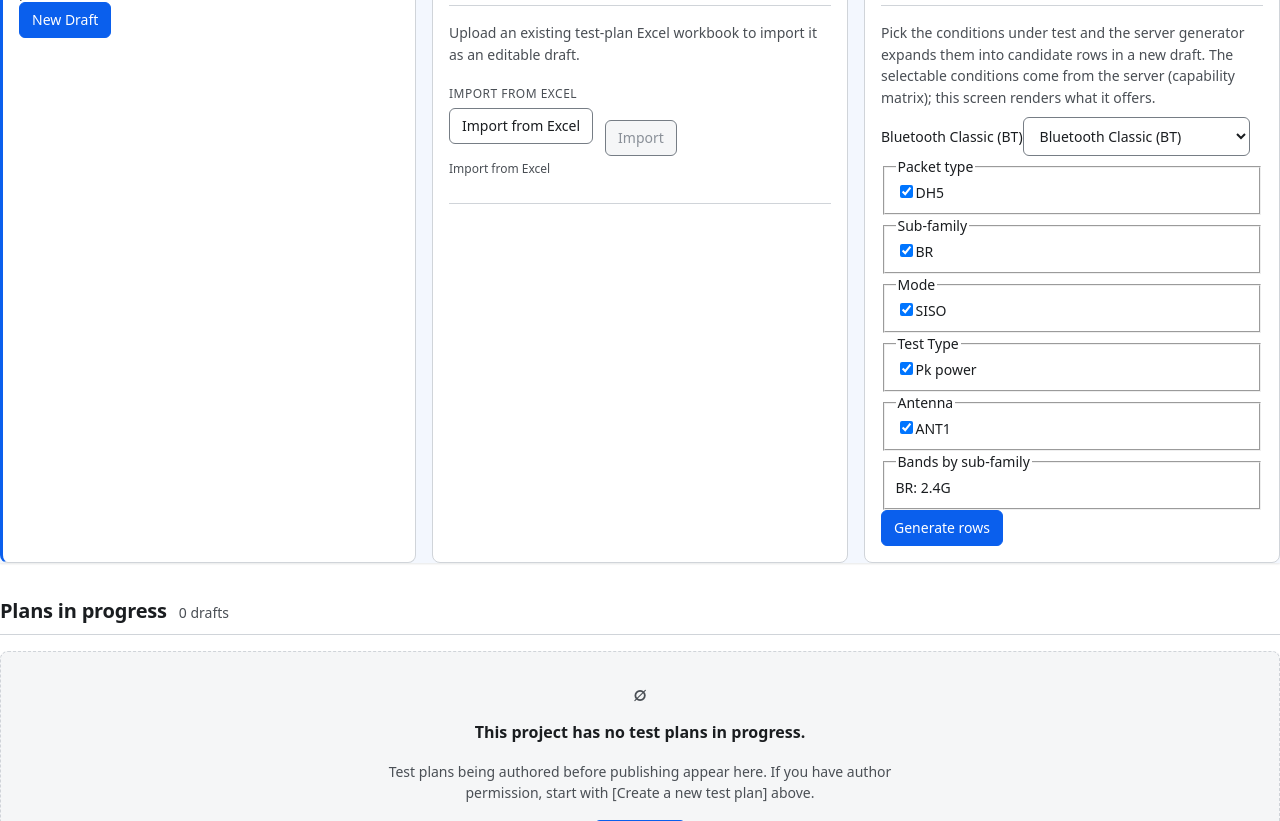
Test: current generation API cutover › submits only after preview with the official idempotency header and consumes status/pages
(page scrolled)
Expected: the form with test id "test-plans-generator-form" is shown, x1=881 y1=117 x2=1263 y2=546
Click the button with test id "test-plans-generator-submit".
click(942, 528)  # box x1=881 y1=510 x2=1003 y2=546
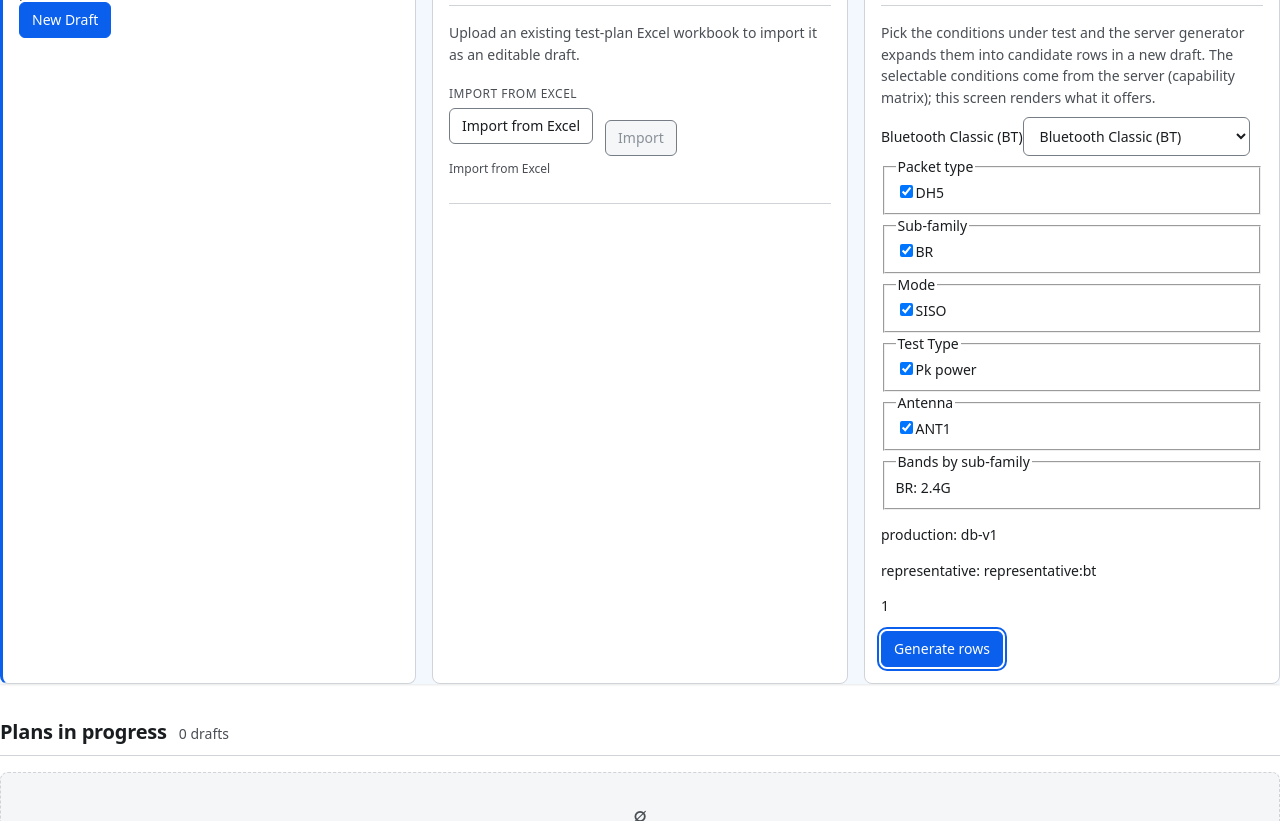
Now the element with test id "test-plans-generator-preview" is shown, box x1=881 y1=525 x2=1096 y2=615
Click the button with test id "test-plans-generator-submit".
click(942, 649)  # box x1=881 y1=631 x2=1003 y2=667
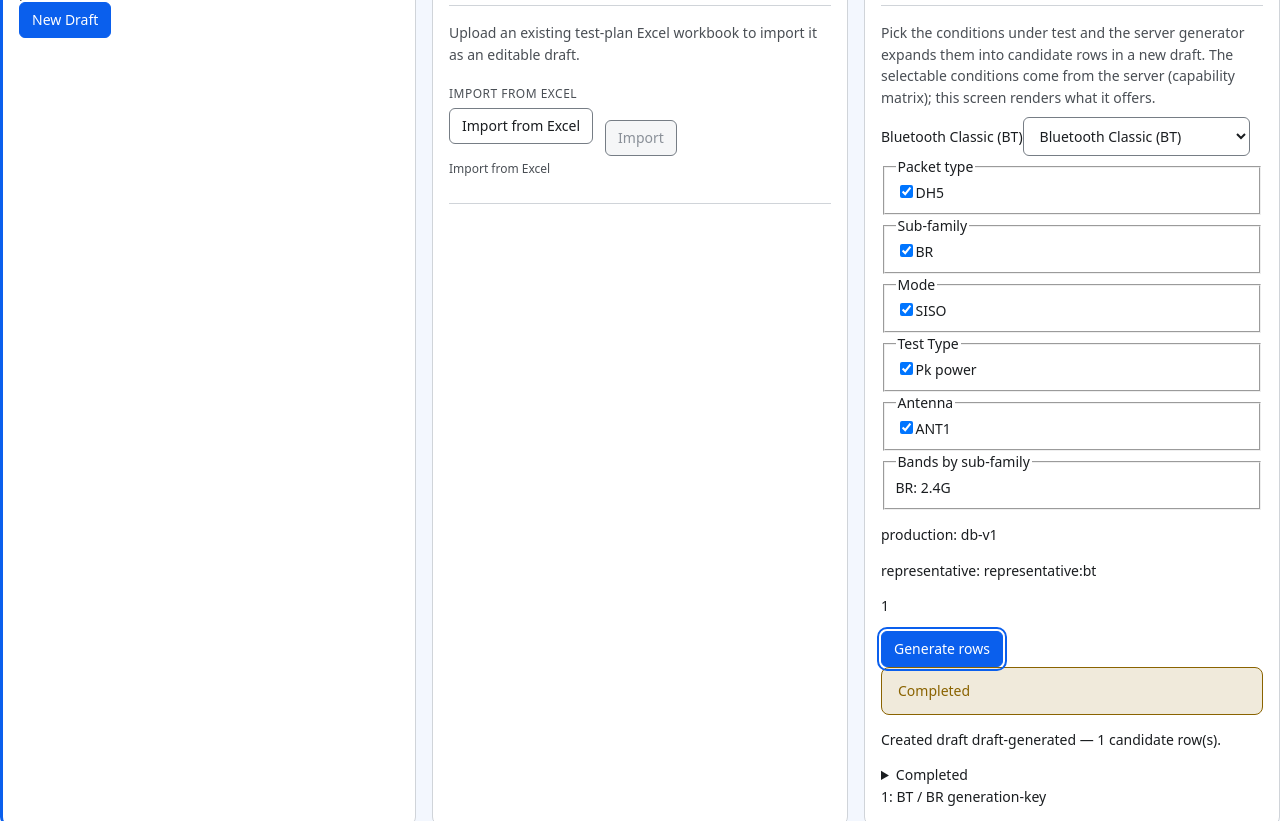
Now the message with test id "test-plans-generator-job-status" reads "Completed", box x1=898 y1=681 x2=970 y2=700
Now the heading with test id "test-plans-generator-metadata-status" reads "Completed", box x1=896 y1=765 x2=968 y2=784
Now the text with test id "test-plans-generator-row" shows "generation-key", box x1=947 y1=787 x2=1046 y2=806
